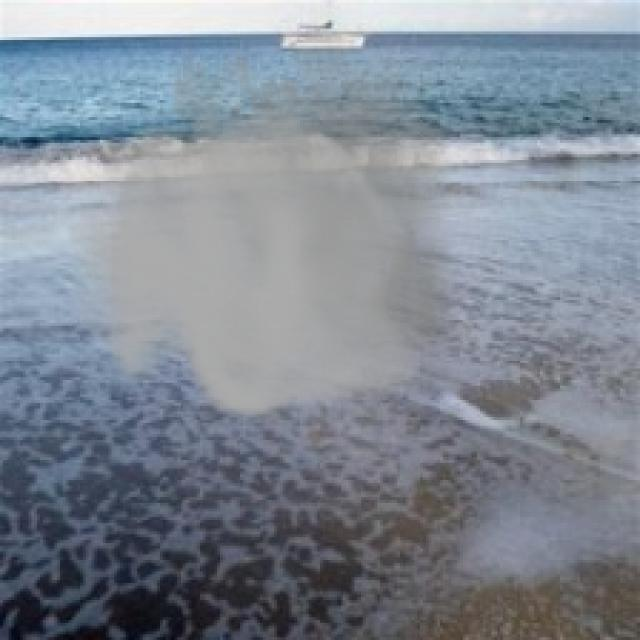smoke: (69, 0, 474, 426)
